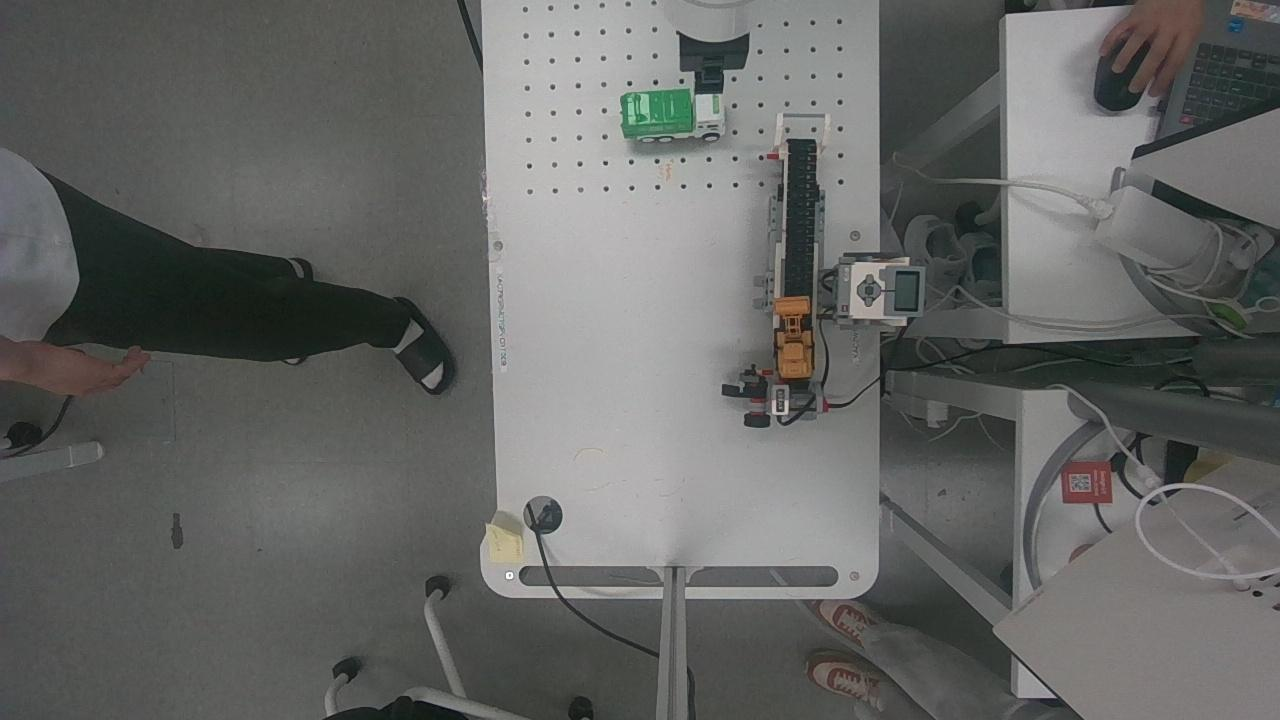green_car: (612, 86, 732, 154)
yellow_car: (767, 297, 815, 382)
